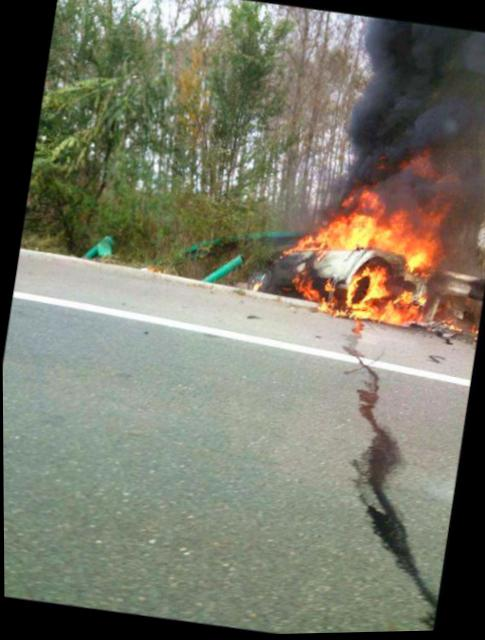fire: (273, 149, 458, 336)
